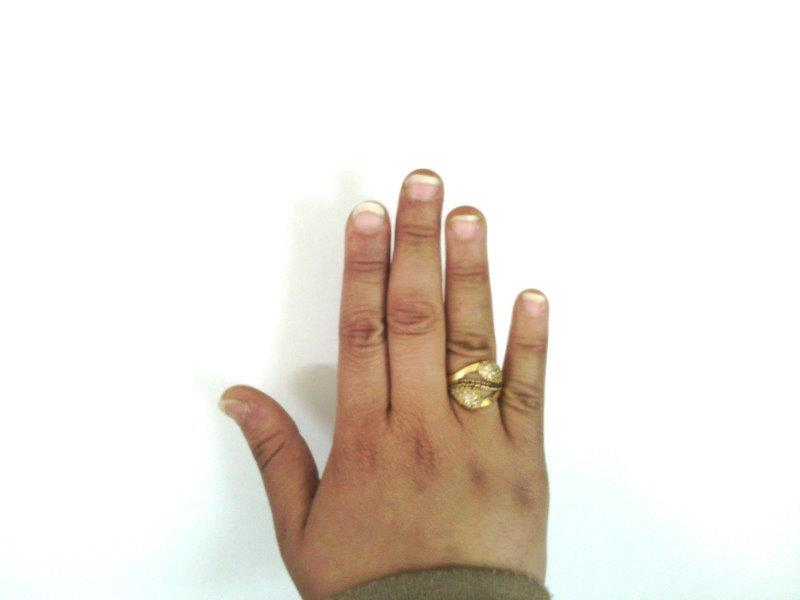hand: (222, 171, 550, 577)
